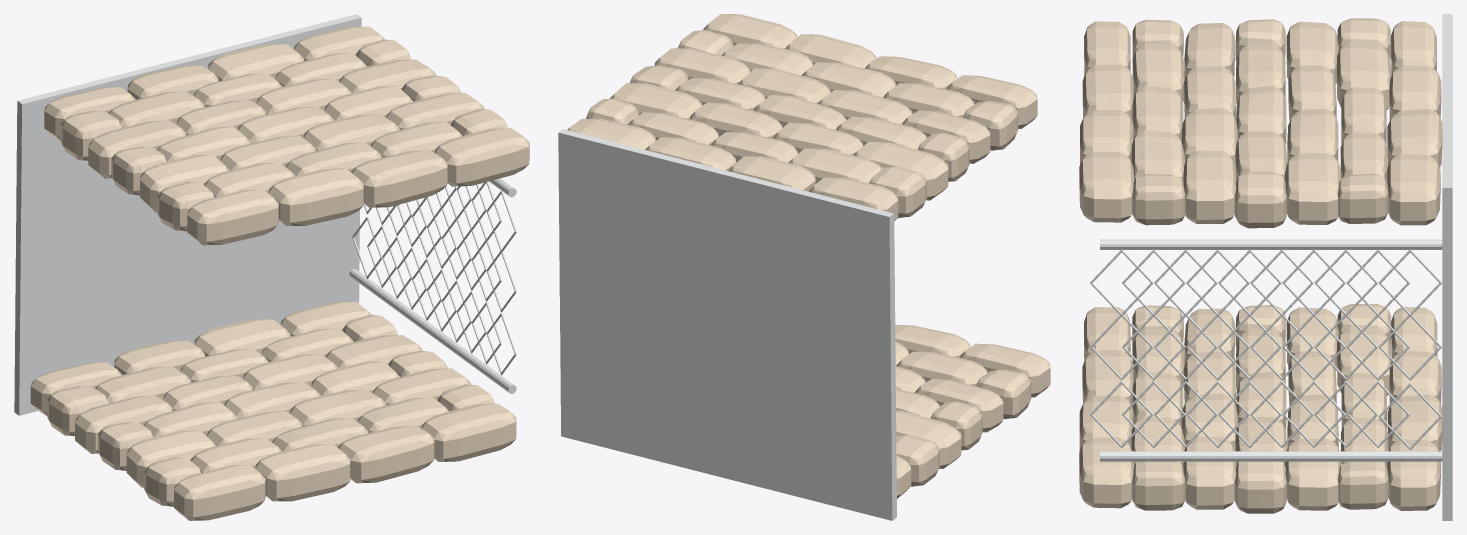
Rendered from kennel.fbx.
3 renders of one model, left to right at view 1: azimuth 30°, elevation 25°; view 2: azimuth 150°, elevation 25°; view 3: azimuth 270°, elevation 25°, orthographic. The views are drawn at different scales.
Parts seen in each view (by area): view 1: node-0; view 2: node-0; view 3: node-0.
Boxes of the visible parts, bbox=[...] form: node-0: bbox=[14, 14, 529, 520]; node-0: bbox=[558, 14, 1050, 520]; node-0: bbox=[1079, 14, 1452, 520].
Bounding box in the file's own units: 4210 × 3616 × 3602.
